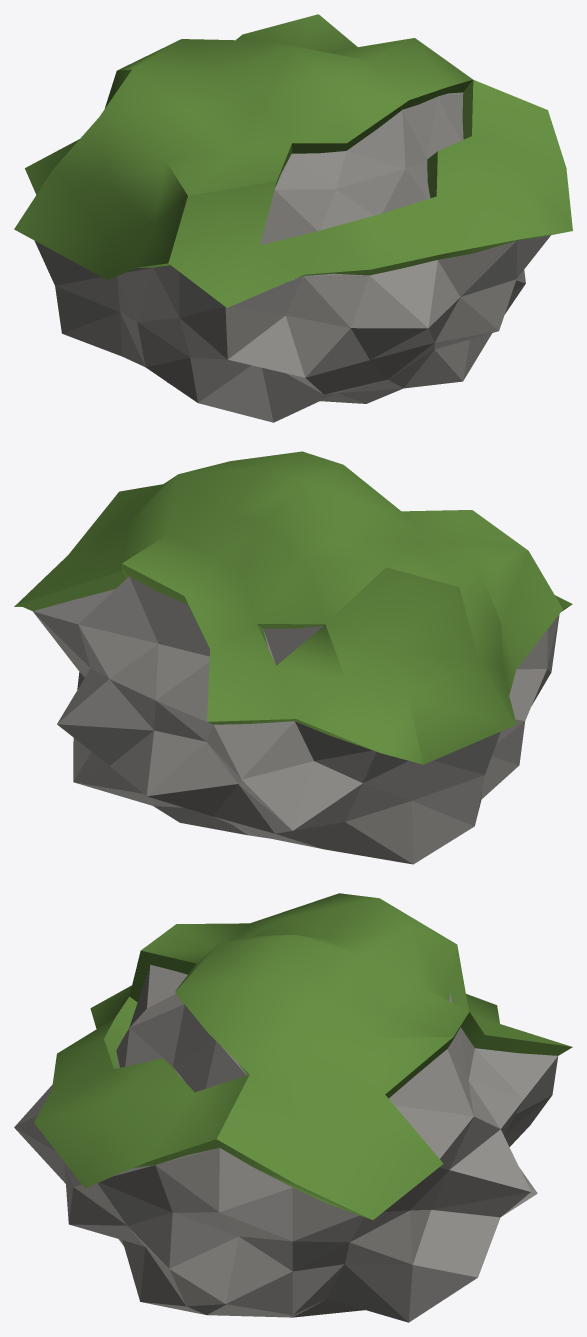
The model's file is rock-mossy-pixor.glb.
3 views of the same model, one above another, from view 1: azimuth 30°, elevation 25°; view 2: azimuth 150°, elevation 25°; view 3: azimuth 270°, elevation 25° (orthographic). The views are drawn at different scales.
Parts seen in each view (by area): view 1: Mossy rock moss, Mossy rock; view 2: Mossy rock moss, Mossy rock; view 3: Mossy rock moss, Mossy rock.
Boxes of the visible parts, left/top/right/bottom form: Mossy rock moss: left=14, top=14, right=572, bottom=307; Mossy rock: left=34, top=92, right=550, bottom=422; Mossy rock moss: left=14, top=451, right=572, bottom=764; Mossy rock: left=33, top=576, right=559, bottom=864; Mossy rock moss: left=34, top=893, right=572, bottom=1219; Mossy rock: left=14, top=964, right=558, bottom=1322.
Size of the model in its own units: 1.18 by 0.7062 by 1.12.
